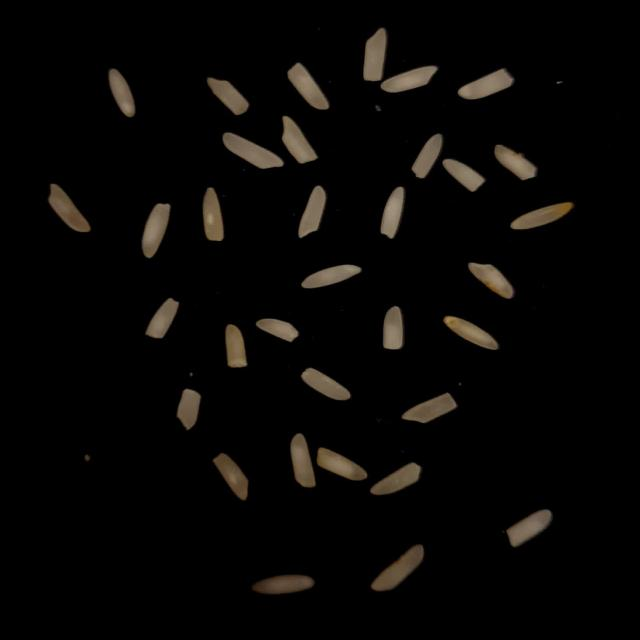Broken: (286, 60, 330, 108), (505, 507, 553, 546), (455, 67, 513, 99), (398, 391, 456, 423), (280, 116, 318, 164), (212, 449, 248, 498), (204, 75, 248, 114), (492, 142, 536, 180), (369, 462, 421, 494), (440, 158, 484, 191), (411, 132, 443, 177), (144, 296, 178, 338), (362, 26, 385, 80), (175, 388, 201, 430), (255, 316, 298, 341), (224, 323, 246, 367), (382, 306, 402, 350)
Full: (369, 543, 423, 591), (220, 132, 284, 168), (47, 182, 90, 232), (442, 313, 498, 349), (314, 446, 366, 481), (508, 201, 572, 229), (466, 260, 513, 298), (300, 366, 350, 400), (140, 202, 170, 258), (379, 64, 438, 92), (297, 184, 325, 238), (300, 264, 362, 288), (288, 432, 313, 487), (250, 573, 314, 594), (379, 186, 404, 238), (108, 66, 134, 116), (202, 186, 224, 240)
